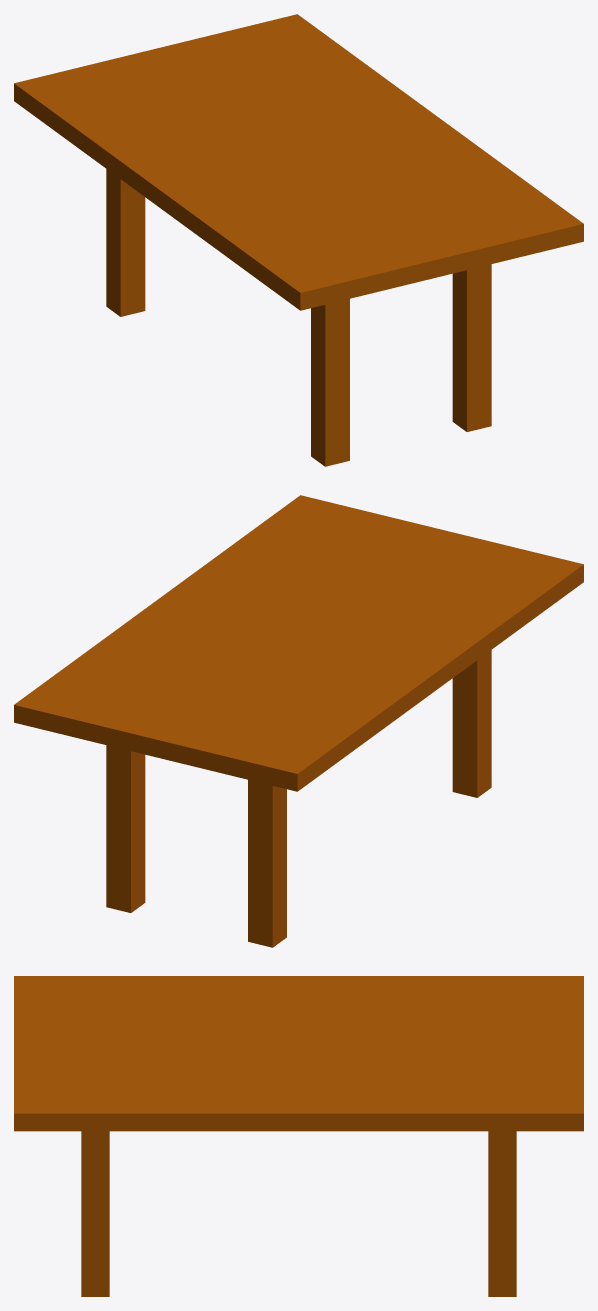
File: Table_Square2.fbx
3 views of the same model, one above another, from view 1: azimuth 30°, elevation 25°; view 2: azimuth 150°, elevation 25°; view 3: azimuth 270°, elevation 25° (orthographic).
Parts seen in each view (by area): view 1: Table_Square2; view 2: Table_Square2; view 3: Table_Square2.
Part boxes in pixels (x1,y1,x2,y2): Table_Square2: [14, 14, 583, 466]; Table_Square2: [14, 495, 583, 947]; Table_Square2: [14, 976, 583, 1296].
Bounding box in the file's own units: 1.66 × 2.91 × 1.19.
